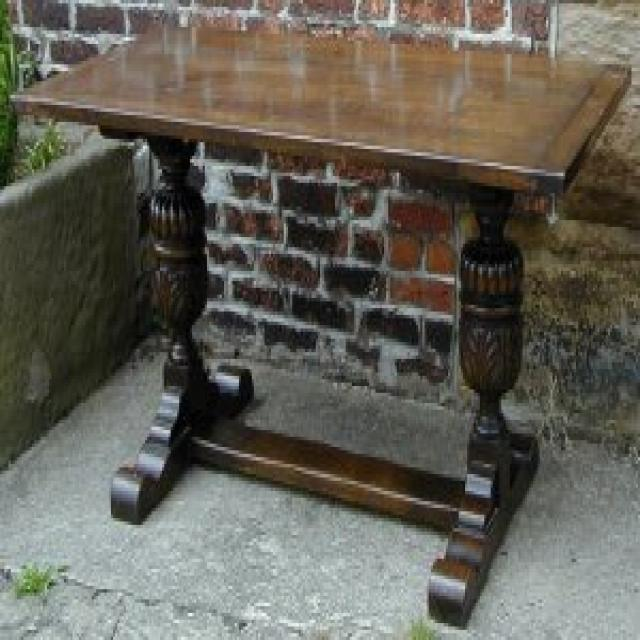table: (7, 19, 633, 629)
